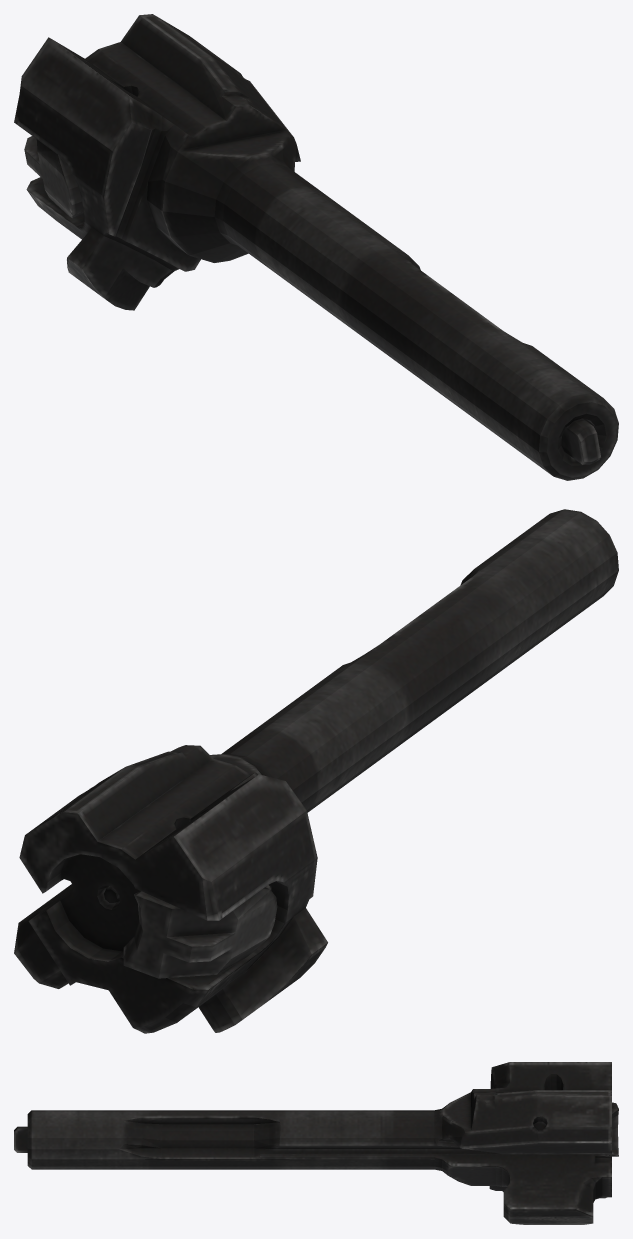
The picture shows the model from 3 angles, top to bottom: view 1: azimuth 30°, elevation 25°; view 2: azimuth 150°, elevation 25°; view 3: azimuth 270°, elevation 25°; orthographic projection. The views are drawn at different scales.
Visible parts, largest first — view 1: TW_6499849fc93611967b034949_PZ_Import; view 2: TW_6499849fc93611967b034949_PZ_Import; view 3: TW_6499849fc93611967b034949_PZ_Import.
Boxes of the visible parts, x1,y1,x2,y2 form: TW_6499849fc93611967b034949_PZ_Import: (14,14,618,480); TW_6499849fc93611967b034949_PZ_Import: (14,509,618,1033); TW_6499849fc93611967b034949_PZ_Import: (14,1062,618,1224).
Size of the model in its own units: 0.0147 by 0.0521 by 0.0135.
Materials: 1 (1 with a texture image).
